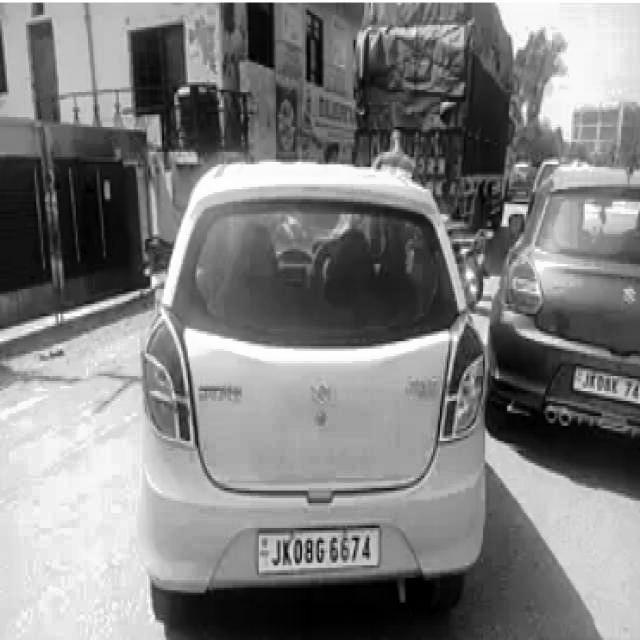Car: (137, 148, 489, 617)
